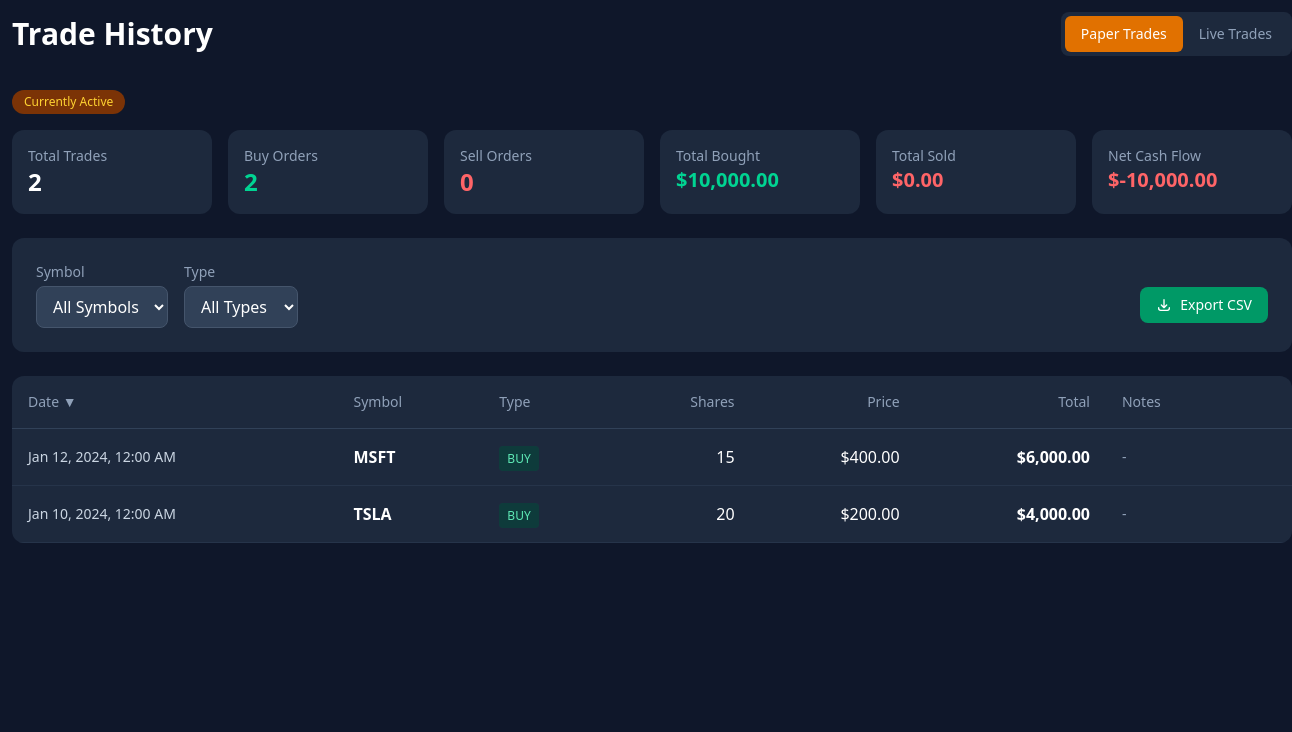
Test case: TradeHistory › Sorting › should toggle sort order when clicking same column
// Click date column header
Step 1. Click the column heading "Date ▼" → [45, 402], box [12,376,338,428]
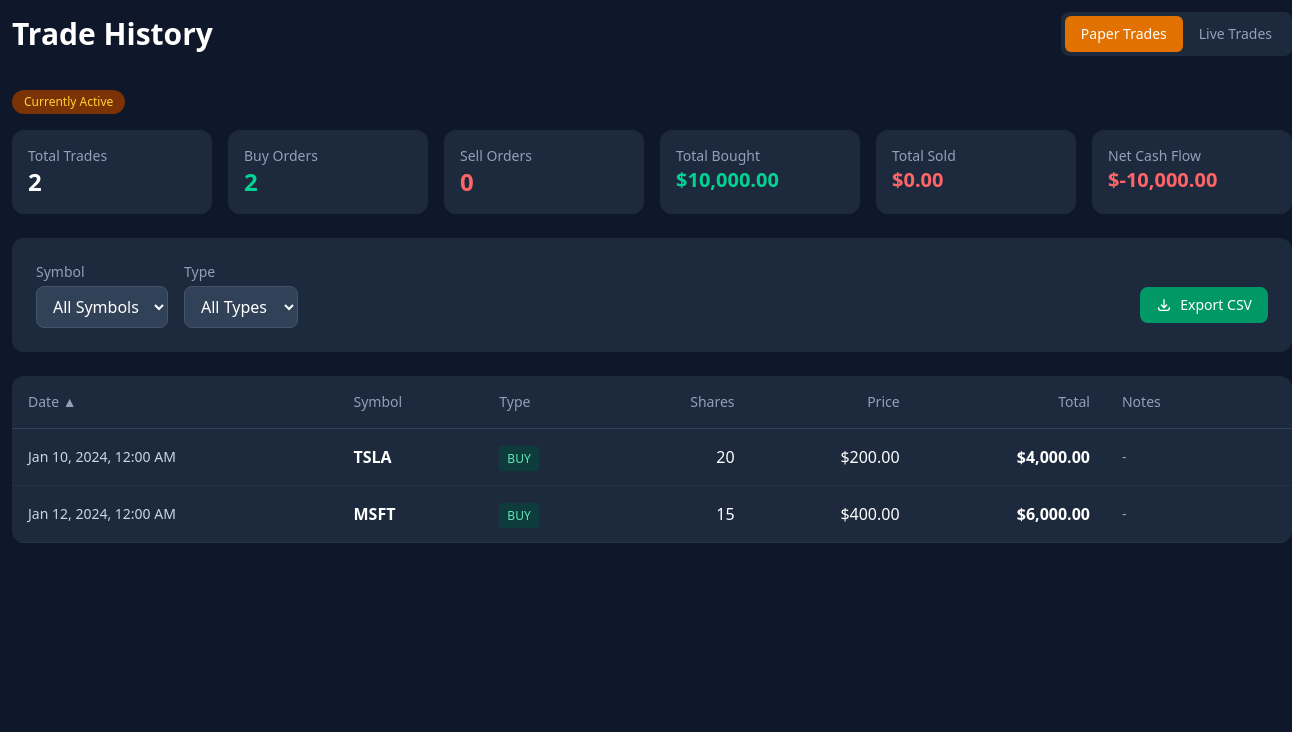
Now the column heading "Date ▲" is shown, box [12,376,338,428]
